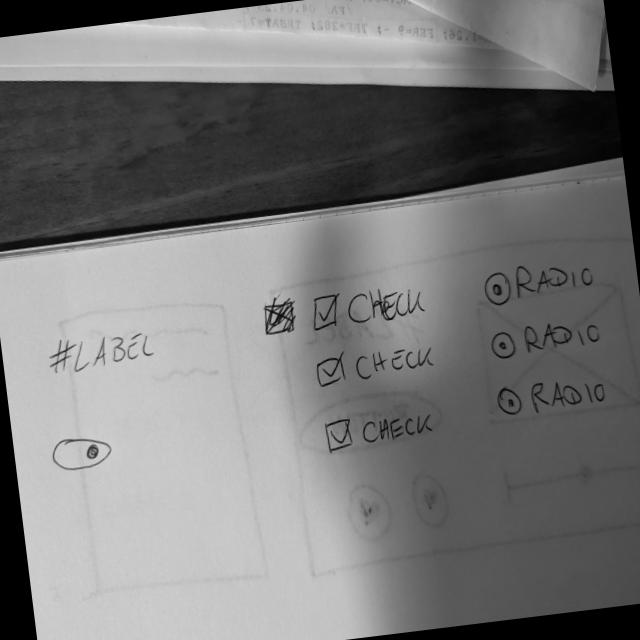checkbox: (308, 278, 430, 336), (312, 336, 438, 391), (321, 405, 438, 455)
label: (42, 322, 159, 379)
radio: (479, 252, 596, 308), (492, 369, 607, 421), (487, 314, 605, 362)
toggle: (48, 432, 114, 474)
